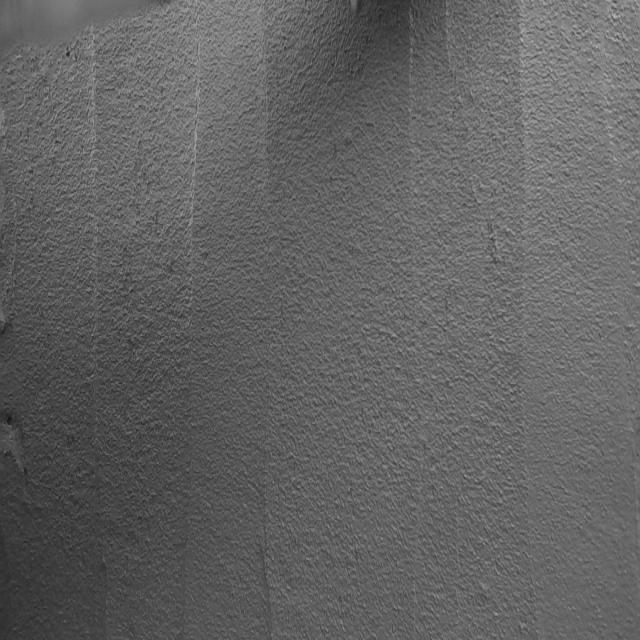trowels marks: (78, 35, 108, 521), (176, 54, 203, 577)
